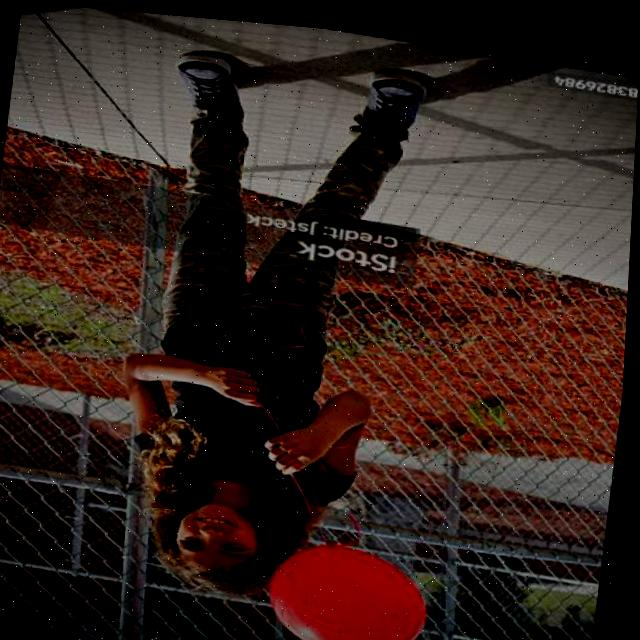balloon: (267, 520, 451, 640)
